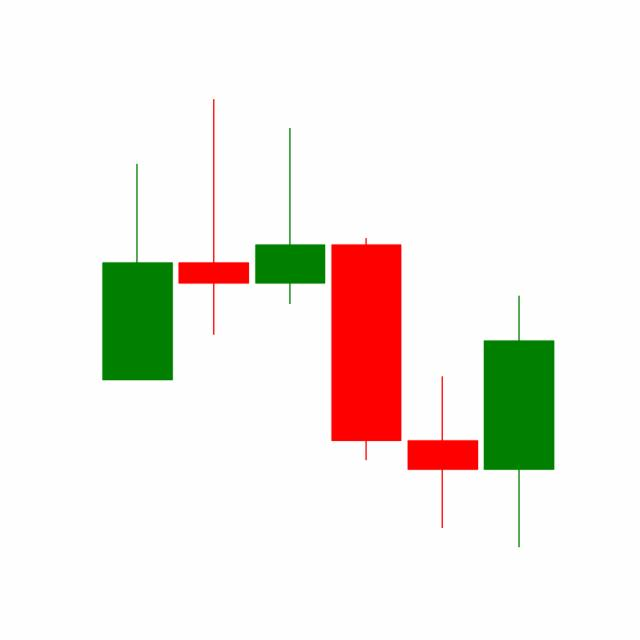Spinning Top: (403, 374, 481, 529)
